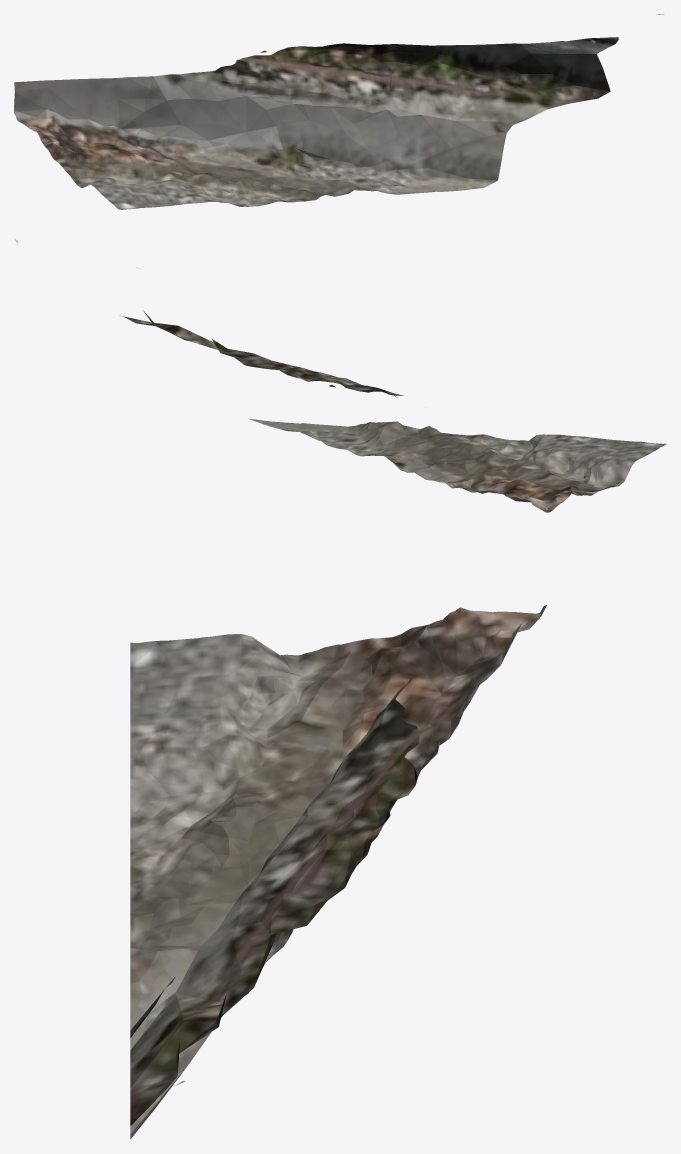
3 renders of one model, top to bottom at view 1: azimuth 30°, elevation 25°; view 2: azimuth 150°, elevation 25°; view 3: azimuth 270°, elevation 25°, orthographic. The views are drawn at different scales.
Bounding box in the file's own units: 1.52 × 0.3065 × 0.4945.
1 material, 1 textured.
